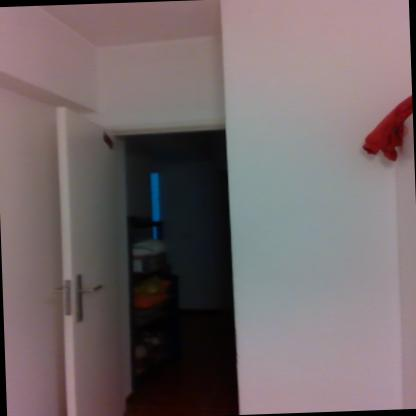open: (43, 92, 239, 416)
